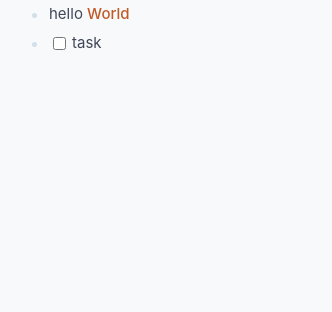
Scenario: Copy block reference writes ((uid)) and closes the menu
What coordinates should you click on to do the following:
click the button named "Open block menu" next to "hello"
I would click on:
 (34, 16)
Its box is [28,9,41,22].
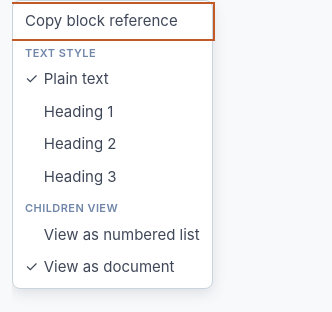
What coordinates should you click on to do the following:
click the menu item "Copy block reference"
I would click on:
 (112, 21)
Its box is [13,5,212,38].
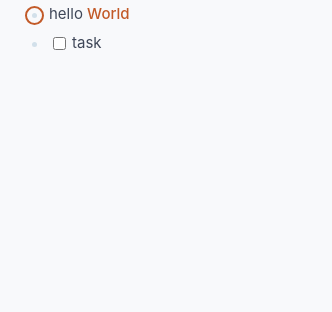
Check: the menu is gone
